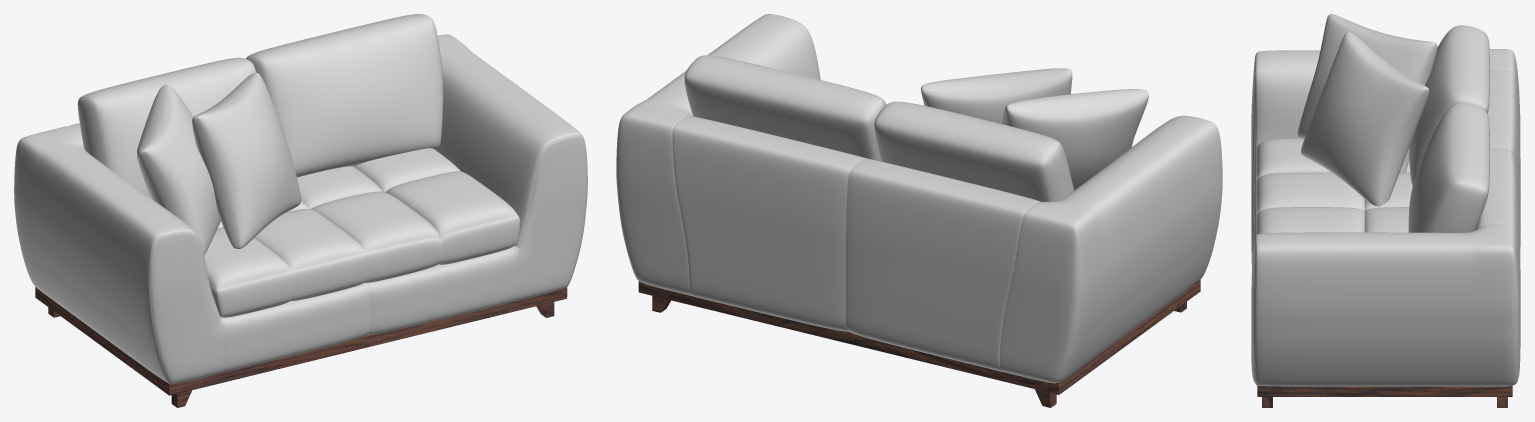
File: SBH_Senart_2Str.glb
The picture shows the model from 3 angles, left to right: view 1: azimuth 30°, elevation 25°; view 2: azimuth 150°, elevation 25°; view 3: azimuth 270°, elevation 25°; orthographic projection. The views are drawn at different scales.
Parts seen in each view (by area): view 1: Senart 2Str; view 2: Senart 2Str; view 3: Senart 2Str.
Boxes of the visible parts, x1,y1,x2,y2 form: Senart 2Str: (14, 14, 587, 407); Senart 2Str: (616, 14, 1222, 407); Senart 2Str: (1251, 14, 1520, 407).
Bounding box in the file's own units: 1.86 × 0.9737 × 1.03.
2 materials, 1 textured.
